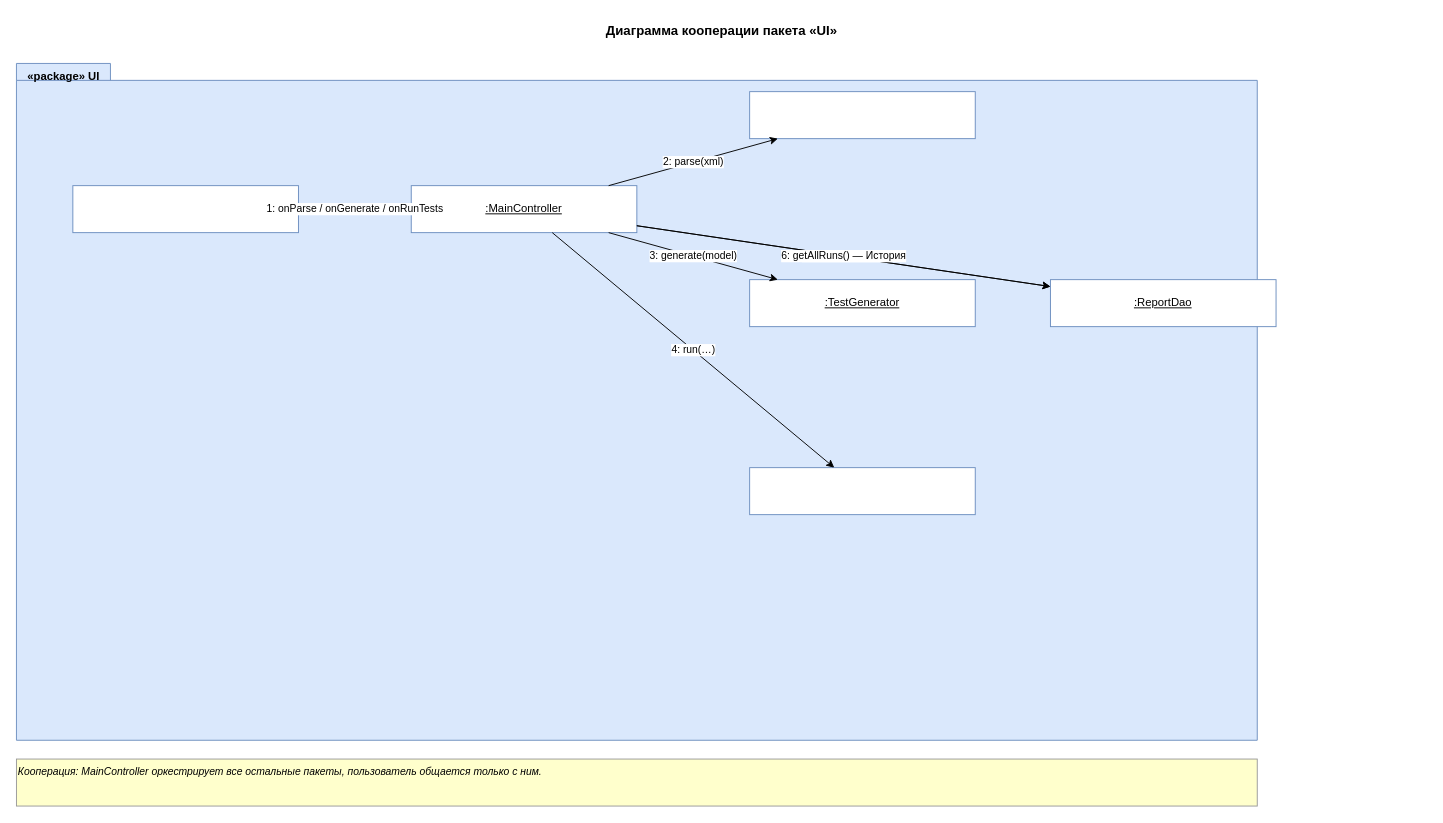
Image size: 1443x823. Some labels were removed from this diagram. The centre of each missing label's shape, as x and y in pixels:
:TestRunner: the point at 862,491
:XmlModelParser: the point at 862,115
:Пользователь: the point at 185,209
